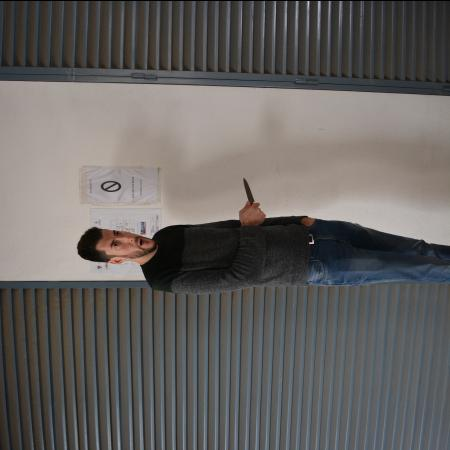long weapon: (236, 173, 262, 211)
